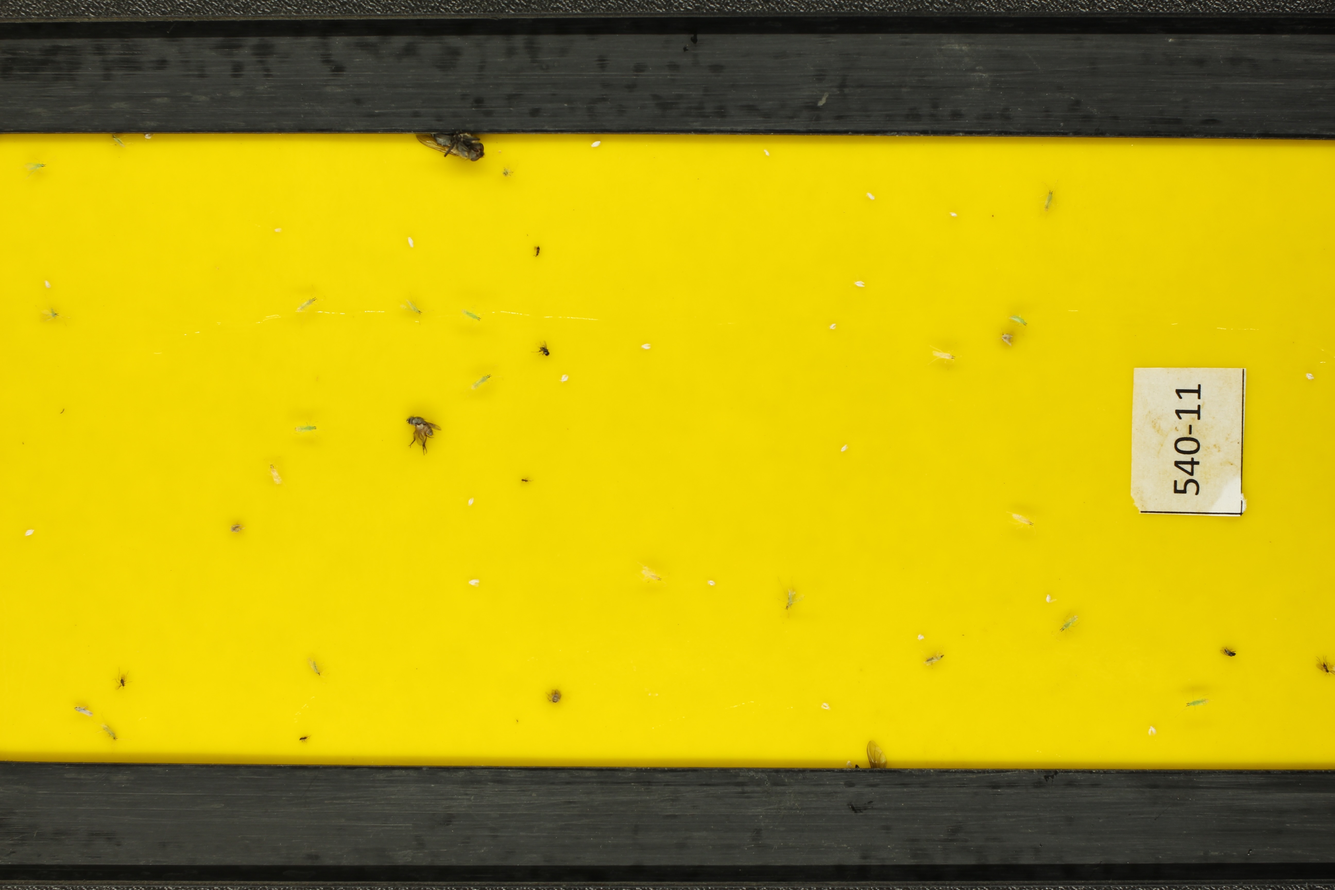MR: (772, 575, 808, 618), (1032, 177, 1067, 217), (1175, 687, 1216, 717), (922, 343, 965, 368), (30, 304, 76, 326), (631, 562, 669, 588), (1004, 508, 1043, 533), (18, 153, 52, 180), (1054, 610, 1089, 636), (262, 460, 292, 489), (400, 296, 431, 323), (289, 416, 323, 437), (96, 716, 122, 743), (302, 654, 329, 680), (99, 136, 140, 153), (467, 370, 500, 391), (921, 647, 950, 670), (292, 293, 319, 316), (456, 305, 485, 326), (1004, 311, 1034, 330)
WF: (1144, 722, 1162, 740), (635, 339, 656, 353), (1300, 367, 1317, 384), (817, 699, 836, 714), (464, 576, 483, 588), (851, 278, 868, 291), (587, 139, 605, 150), (404, 235, 417, 250), (463, 495, 478, 508), (757, 147, 773, 159), (837, 443, 853, 455), (863, 190, 878, 202), (556, 373, 572, 384), (913, 632, 929, 643), (24, 527, 39, 538), (1043, 594, 1058, 605), (41, 278, 55, 289), (827, 322, 841, 333), (705, 577, 718, 588), (946, 209, 960, 219)
